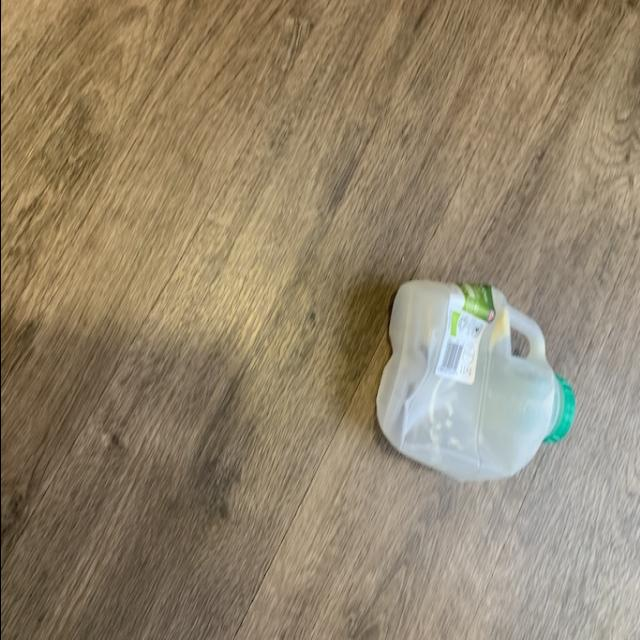HDPEM: (372, 285, 580, 495)
